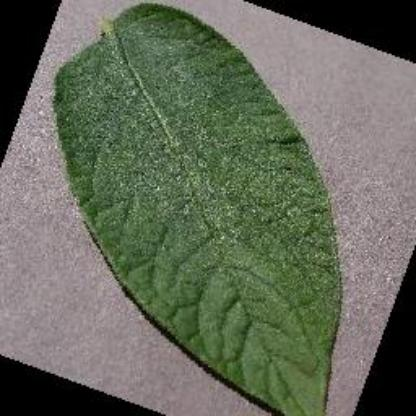Healthy-plant: (53, 0, 361, 416)
